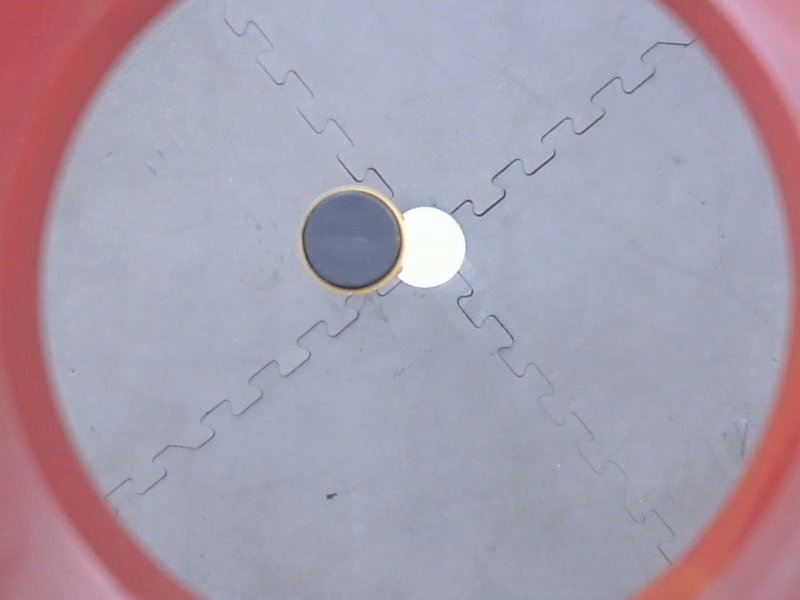tip: (291, 183, 413, 301)
